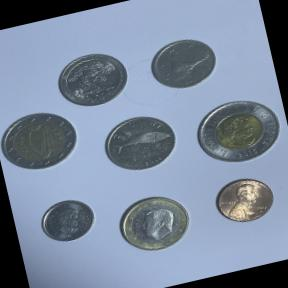1 Euro-B: (107, 184, 202, 262)
2 Euro-B: (0, 103, 82, 181)
Canada-10cent-B: (32, 190, 102, 250)
Canada-2Dollar-B: (185, 85, 288, 178)
Croatia-2Kune-B: (94, 103, 184, 182)
US-1cent-B: (205, 166, 283, 232)
US-25cent-B: (47, 43, 136, 116)
